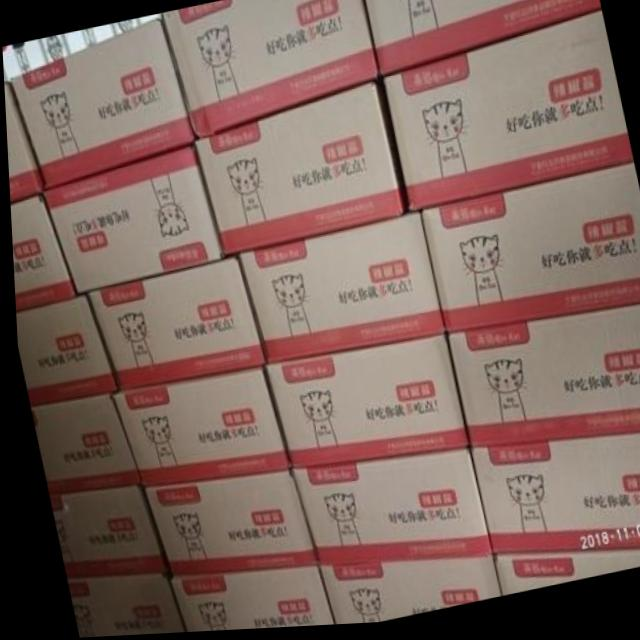box: (384, 17, 630, 219), (418, 171, 640, 340), (197, 86, 402, 257), (10, 20, 194, 192), (160, 0, 378, 142), (236, 218, 442, 368), (41, 145, 224, 297), (443, 312, 640, 453), (262, 339, 463, 471), (84, 260, 262, 392), (287, 455, 487, 569), (465, 437, 640, 560), (108, 370, 286, 487), (362, 0, 600, 83), (138, 477, 311, 578), (311, 564, 494, 628), (13, 298, 115, 408), (163, 568, 328, 634), (44, 486, 163, 577), (27, 395, 136, 494), (8, 194, 75, 315), (61, 577, 179, 638), (488, 556, 640, 600), (3, 81, 44, 203)
